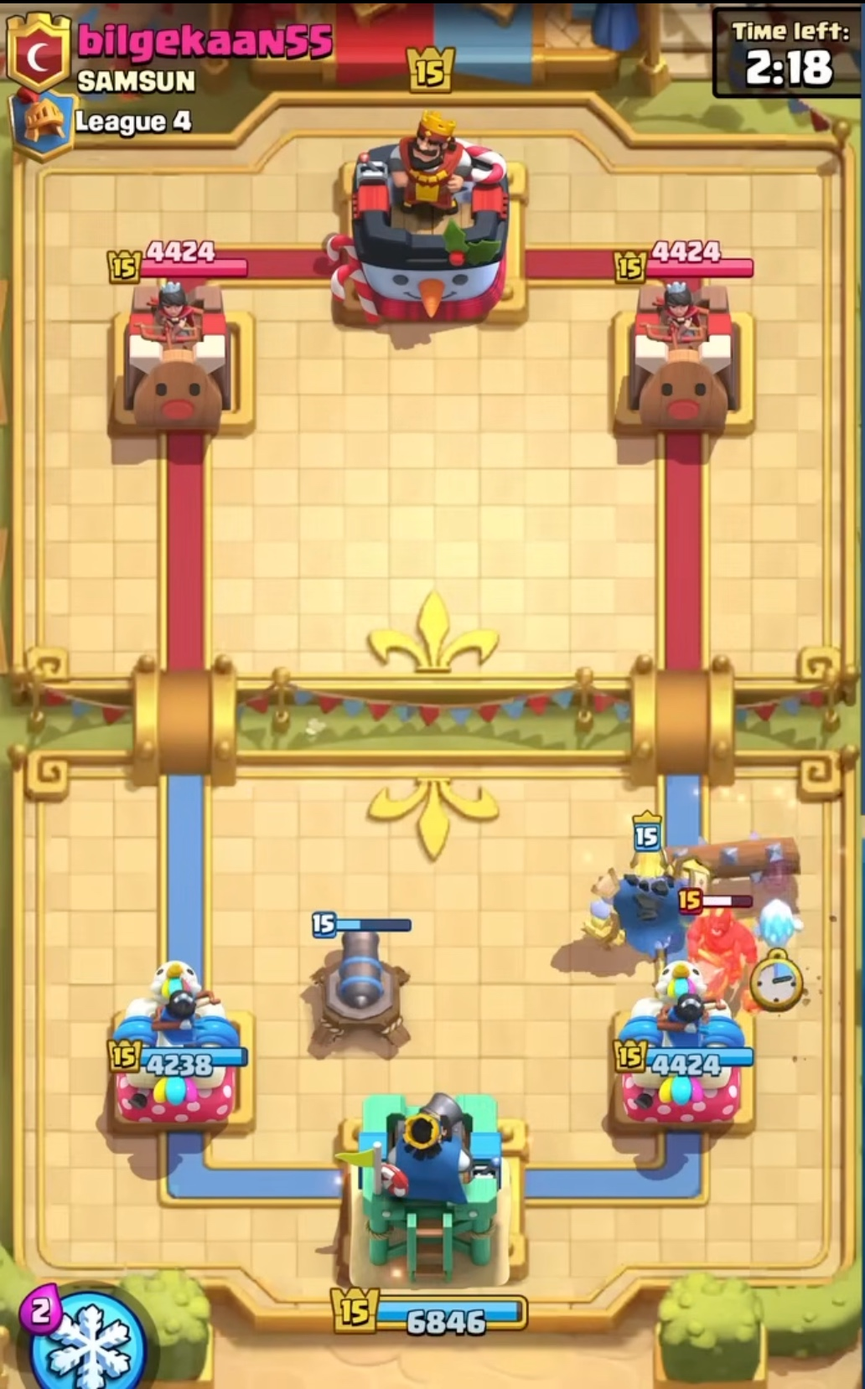cannon: (292, 895, 429, 1059)
hero-ice-golem: (581, 807, 713, 964)
ice-spirit: (752, 897, 807, 960)
log: (634, 834, 809, 885)
